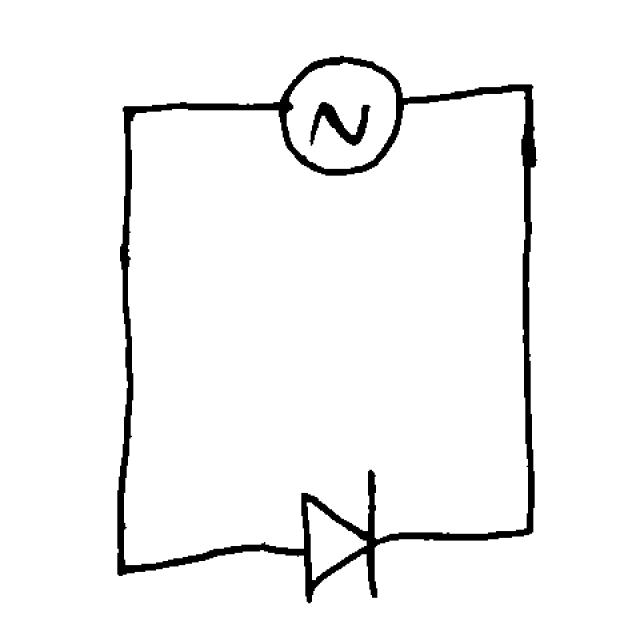ac: (263, 41, 412, 184)
diode: (280, 462, 398, 612)
